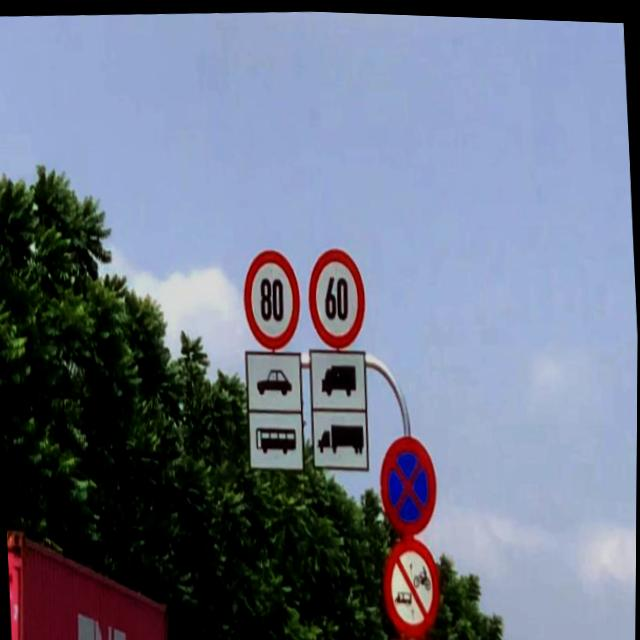Cam dung xe va do xe: (376, 427, 442, 536)
Toc do toi da cho phep: (305, 241, 370, 351), (241, 242, 305, 351)
